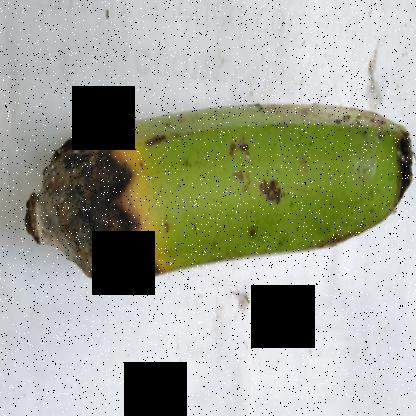rotten: (13, 96, 172, 310), (382, 110, 415, 239)
